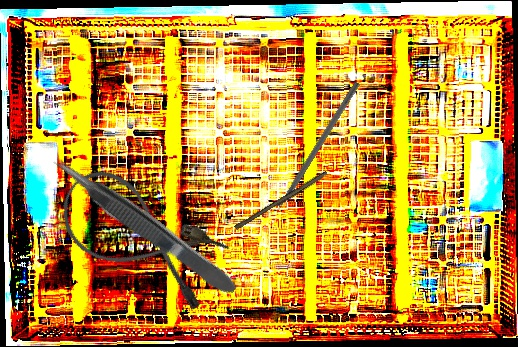Cannula: (45, 157, 235, 317)
Chopper: (263, 76, 361, 219)
Scalpel Handle: (234, 169, 329, 233)
Tissue Forceps: (47, 148, 241, 304)
